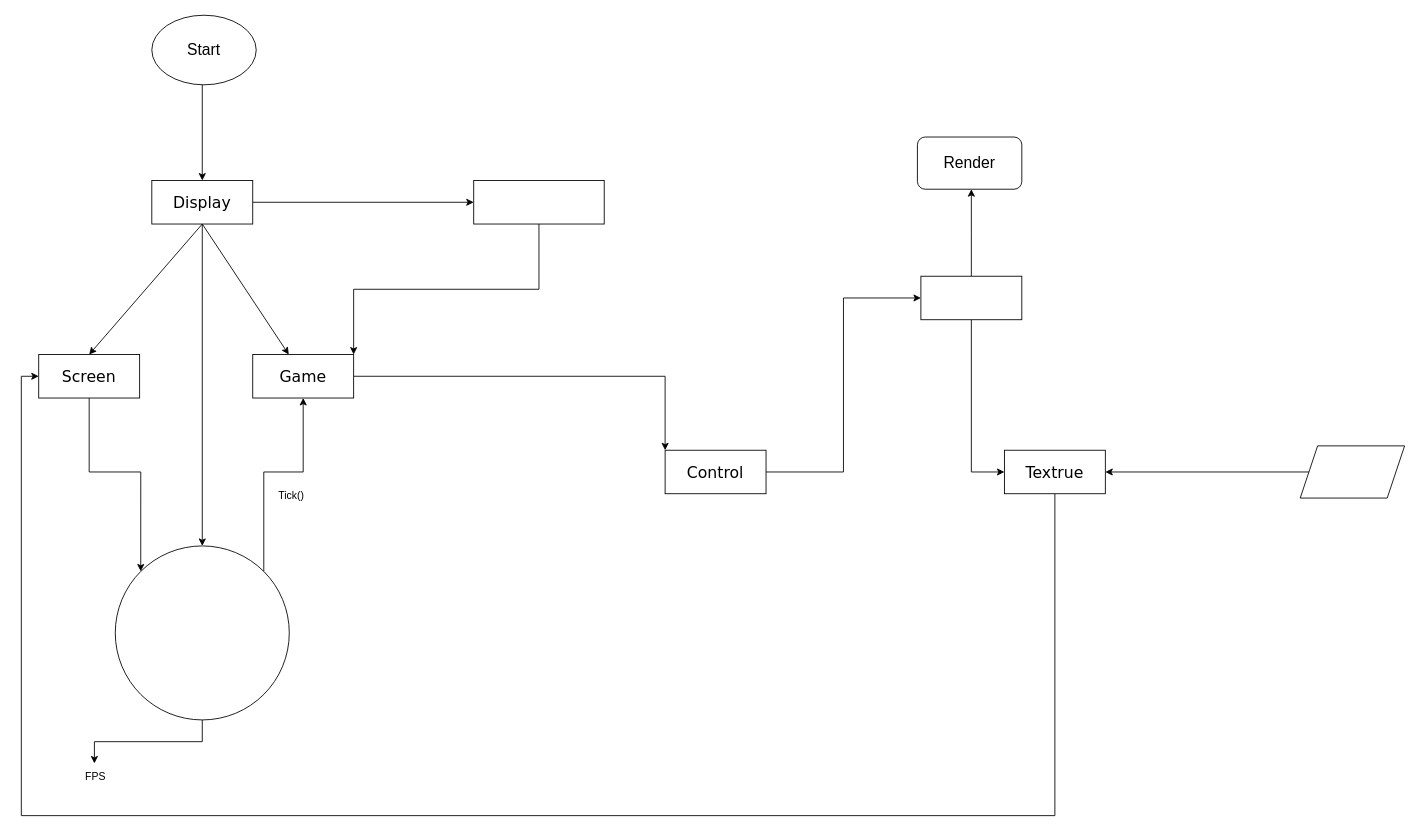
Image size: 1420x838. Some labels were removed from this diagram. Here are the shapes that lost their labels. From the top down, the centre of each, then its label:
At pixel 538 202: "InputHandler".
At pixel 971 297: "Render3D".
At pixel 1352 471: "File".
At pixel 201 632: "Game Loop".
